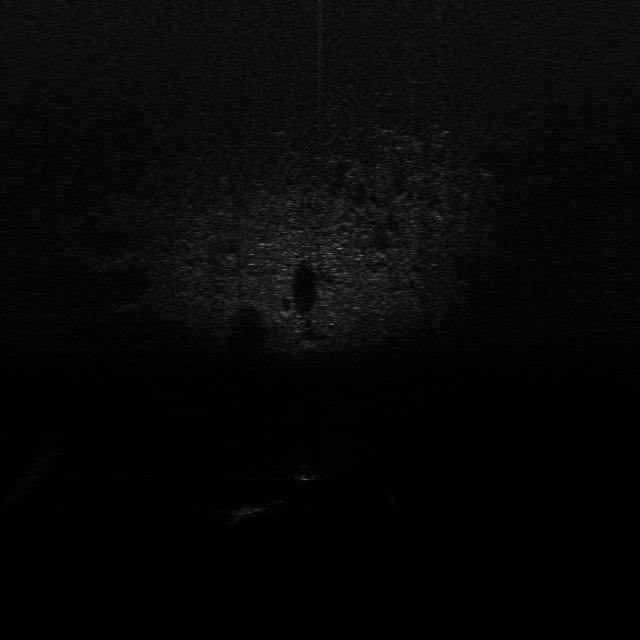ball: (286, 462, 318, 482)
square cage: (221, 500, 273, 518)
